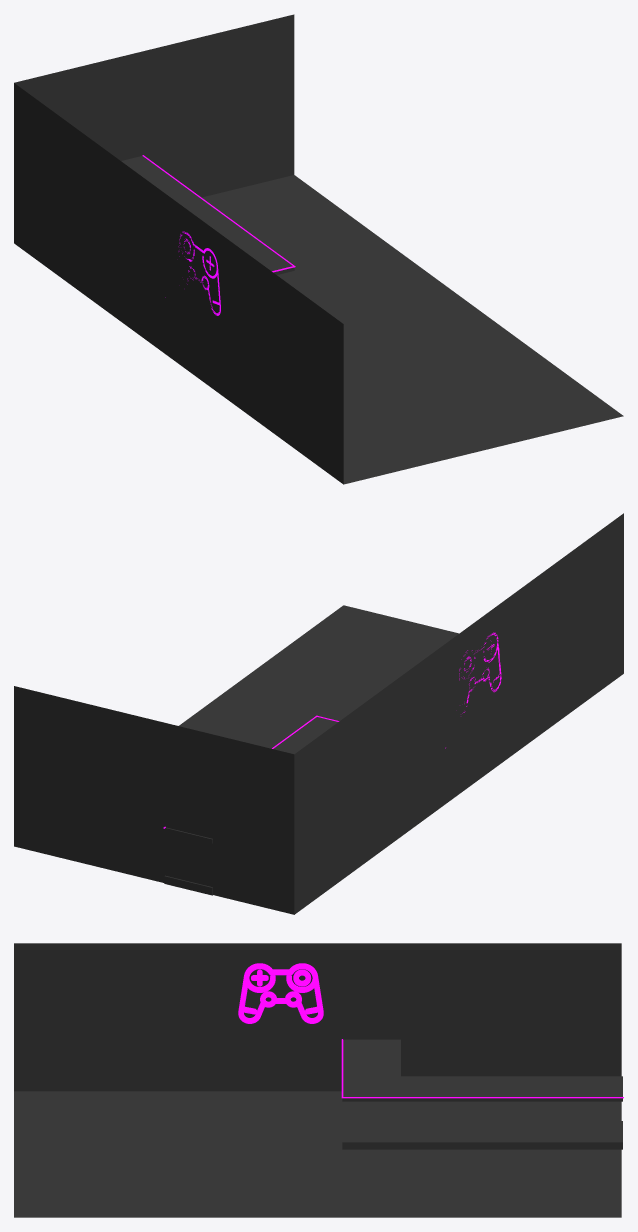
The model's file is arcade3.fbx.
3 renders of one model, top to bottom at view 1: azimuth 30°, elevation 25°; view 2: azimuth 150°, elevation 25°; view 3: azimuth 270°, elevation 25°, orthographic. The views are drawn at different scales.
Parts seen in each view (by area): view 1: Plane, Cube.001; view 2: Plane, Cube.001; view 3: Plane, Cube, Cube.001, Curve, Cylinder.002.
Part boxes in pixels (<box>): Plane: <box>14,14,623,484</box>; Cube.001: <box>121,156,294,274</box>; Plane: <box>14,513,623,914</box>; Cube.001: <box>164,717,337,843</box>; Plane: <box>14,943,621,1217</box>; Cube: <box>342,1101,622,1149</box>; Cube.001: <box>342,1039,622,1101</box>; Curve: <box>238,963,323,1023</box>; Cylinder.002: <box>341,1097,623,1098</box>.
Size of the model in its own units: 1018 by 557 by 2081.
